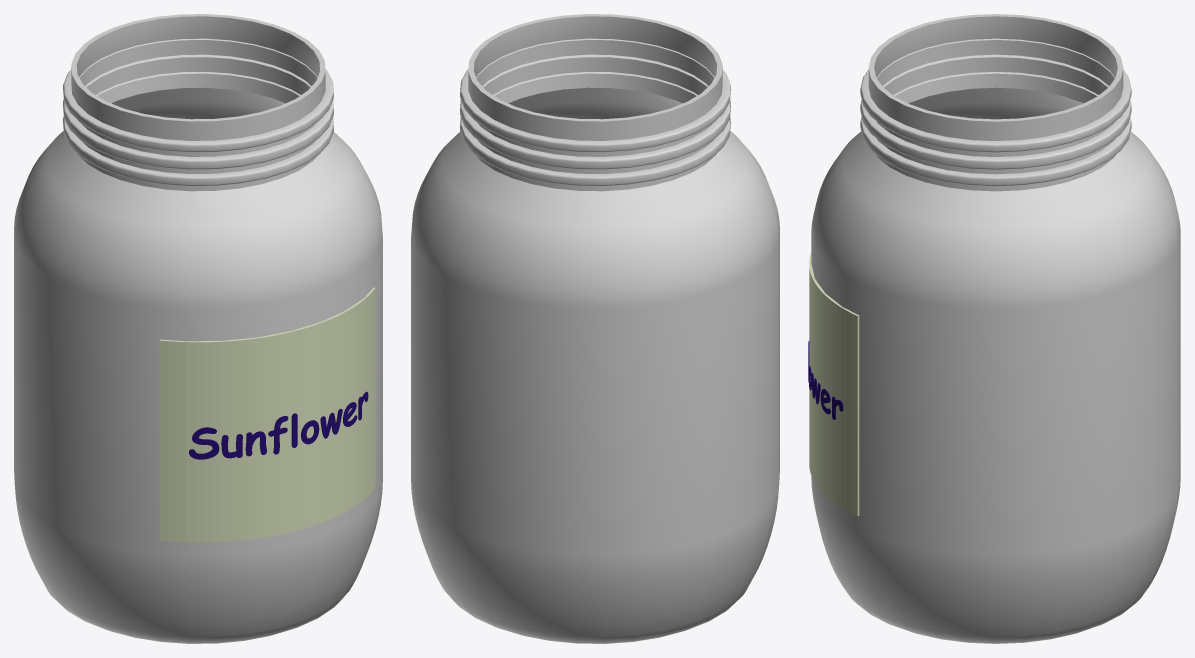
The model's file is Jar_Sunflower.fbx.
3 renders of one model, left to right at view 1: azimuth 30°, elevation 25°; view 2: azimuth 150°, elevation 25°; view 3: azimuth 270°, elevation 25°, orthographic.
Visible parts, largest first — view 1: Jar.002; view 2: Jar.002; view 3: Jar.002.
Part boxes in pixels (bbox=[...]): Jar.002: bbox=[14, 14, 382, 643]; Jar.002: bbox=[411, 14, 779, 643]; Jar.002: bbox=[808, 14, 1180, 643].
Bounding box in the file's own units: 25.69 × 39.71 × 25.9.
